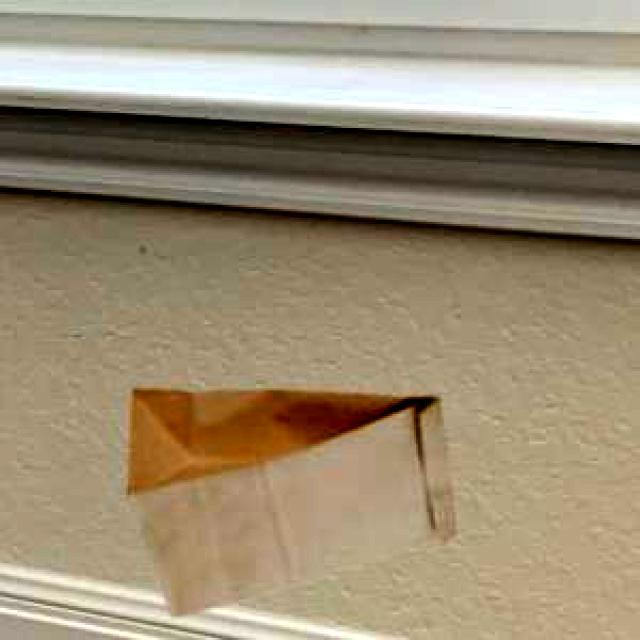Paper_Bag: (124, 388, 453, 614)
